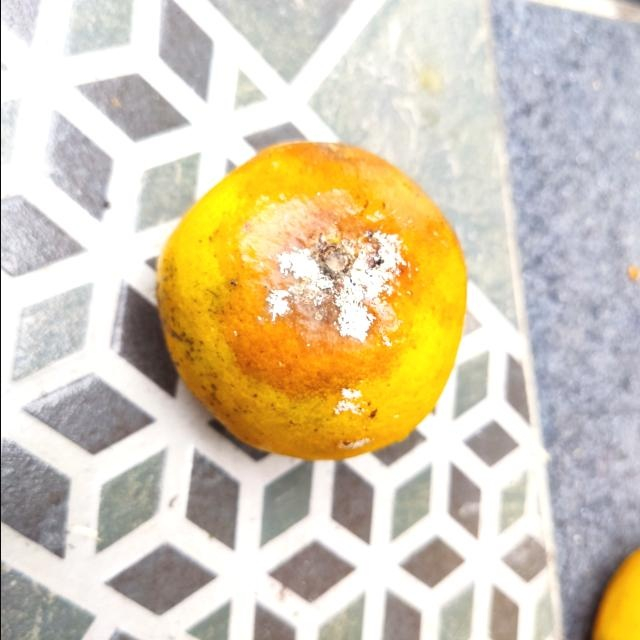agrume: (154, 142, 470, 465)
